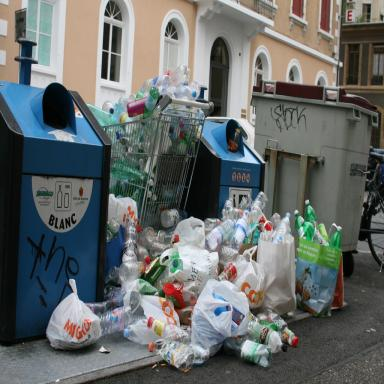plasticbag: (190, 277, 250, 356), (44, 276, 102, 348), (159, 240, 217, 296), (229, 247, 265, 307), (172, 215, 206, 249), (106, 192, 138, 226)
